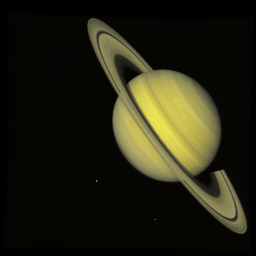planet: (81, 13, 251, 241)
